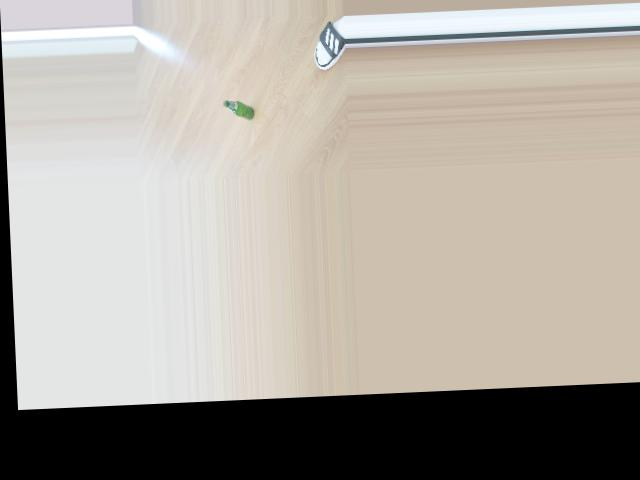beer: (224, 98, 254, 120)
